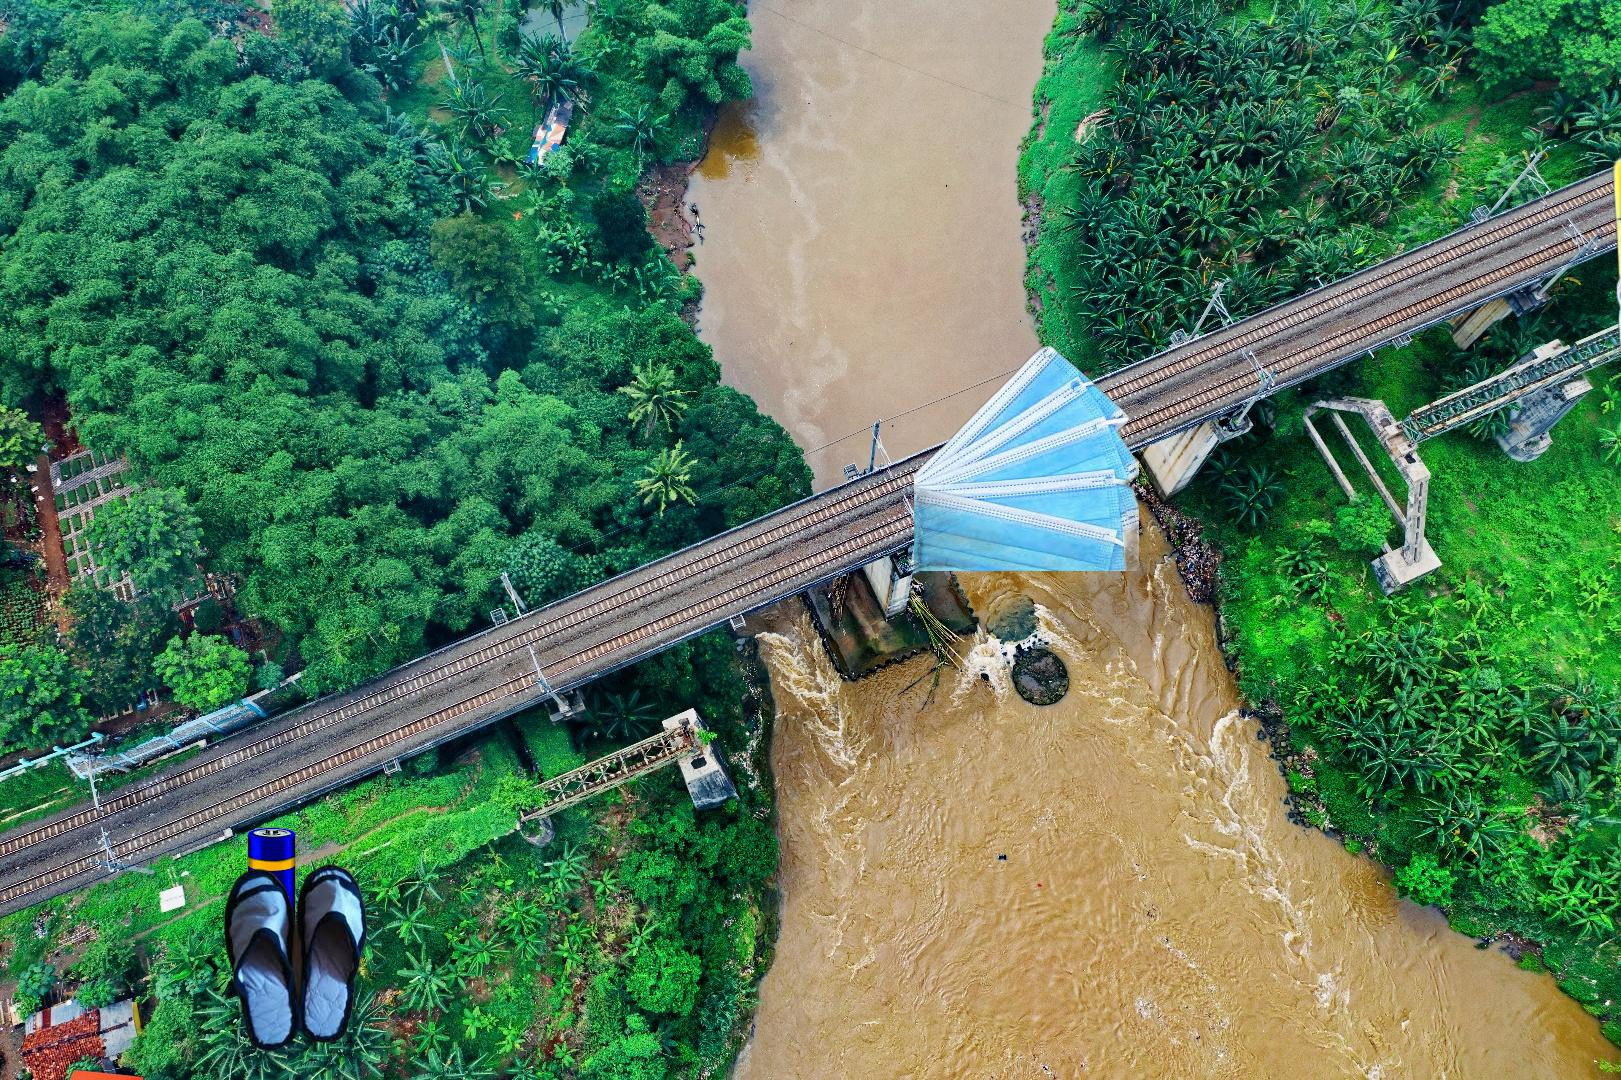battery: (245, 824, 298, 1000)
paper-bag: (33, 1066, 151, 1080)
penholder: (1607, 117, 1621, 470)
shoes: (222, 863, 370, 1053)
trash: (914, 346, 1139, 571)
